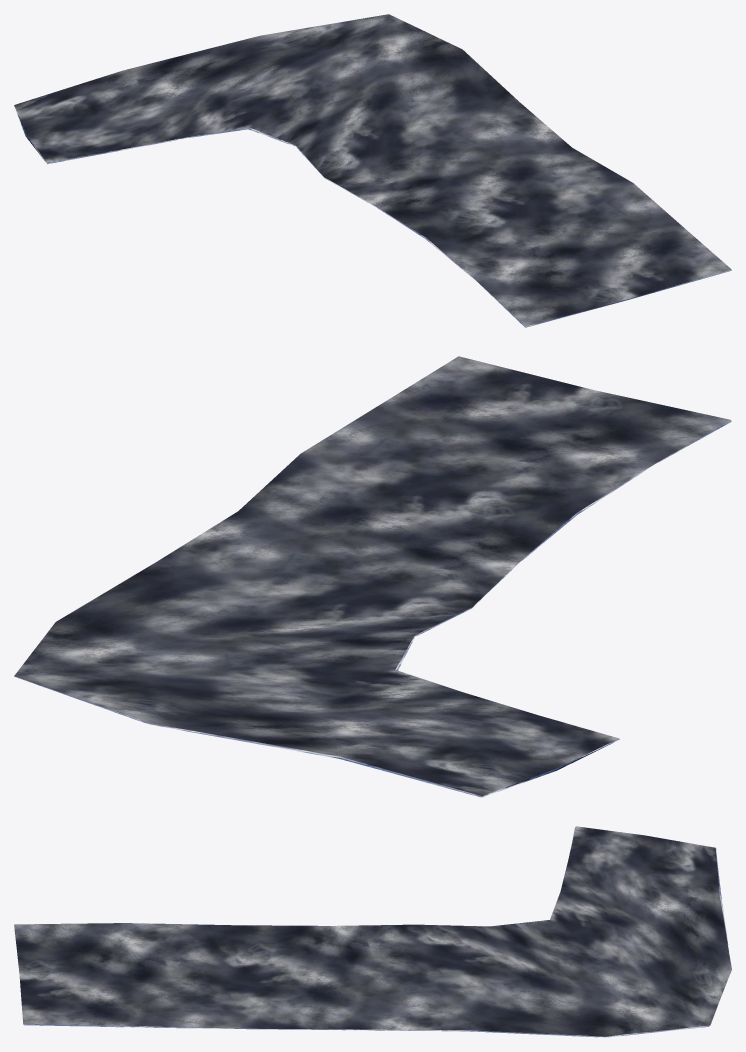
Rendered from LONE_MOUNTAIN_WATERFALLS_MAIN_WATER_GEARS02.fbx.
The picture shows the model from 3 angles, top to bottom: view 1: azimuth 30°, elevation 25°; view 2: azimuth 150°, elevation 25°; view 3: azimuth 270°, elevation 25°; orthographic projection. The views are drawn at different scales.
Parts seen in each view (by area): view 1: LONE_MOUNTAIN_WATERFALLS_MAIN_WATER_GEARS02; view 2: LONE_MOUNTAIN_WATERFALLS_MAIN_WATER_GEARS02; view 3: LONE_MOUNTAIN_WATERFALLS_MAIN_WATER_GEARS02.
Boxes of the visible parts, x1,y1,x2,y2 form: LONE_MOUNTAIN_WATERFALLS_MAIN_WATER_GEARS02: [14, 14, 731, 327]; LONE_MOUNTAIN_WATERFALLS_MAIN_WATER_GEARS02: [14, 356, 731, 797]; LONE_MOUNTAIN_WATERFALLS_MAIN_WATER_GEARS02: [14, 826, 731, 1037].
Size of the model in its own units: 95209 by 1670 by 138822.
Materials: 2 (2 with a texture image).
